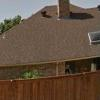Chimney: (53, 1, 77, 26)
